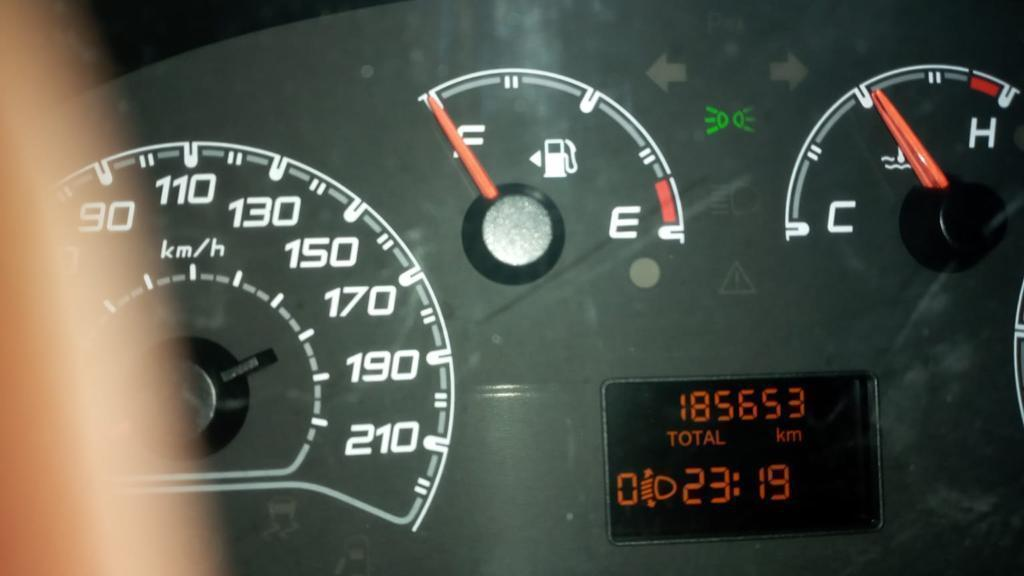0: (616, 471, 638, 505)
1: (757, 464, 767, 502), (678, 388, 688, 424)
2: (682, 466, 706, 504)
3: (708, 464, 730, 504), (788, 386, 805, 419)
5: (761, 387, 782, 420), (714, 389, 734, 421)
6: (738, 387, 757, 420)
8: (689, 389, 710, 422)
9: (768, 462, 790, 501)
X: (715, 428, 728, 447), (665, 428, 677, 447), (732, 470, 740, 497), (691, 429, 703, 447), (703, 429, 715, 447), (678, 430, 691, 446), (786, 429, 802, 441), (776, 426, 785, 442)
odometer: (596, 371, 887, 541)
